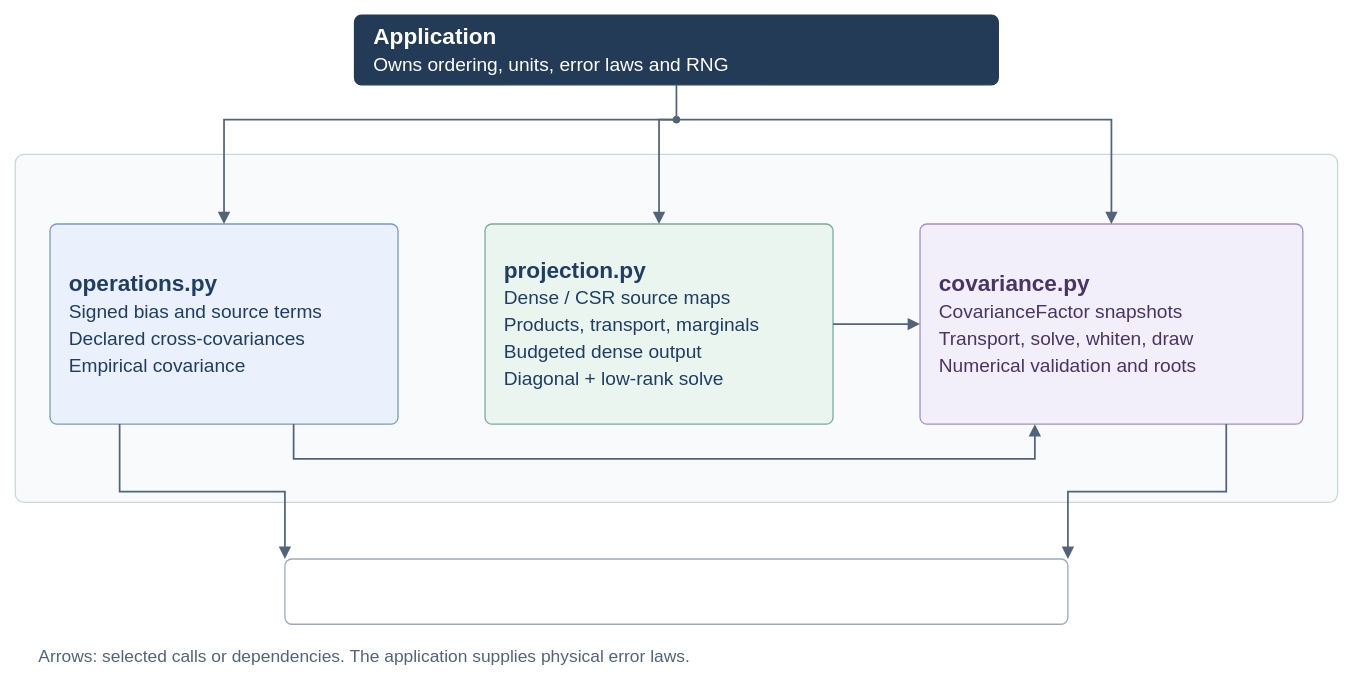
Some shapes in this 1354 by 683 pixel diagram are drawn without their labels. The box of each missing label's shape, as (x1, y1, x2, y2) in pixels:
NumPy / SciPy Dense arrays, CSR maps and numerical decompositions: (284, 558, 1068, 624)
orsia_uncertainty: (14, 153, 1338, 503)
